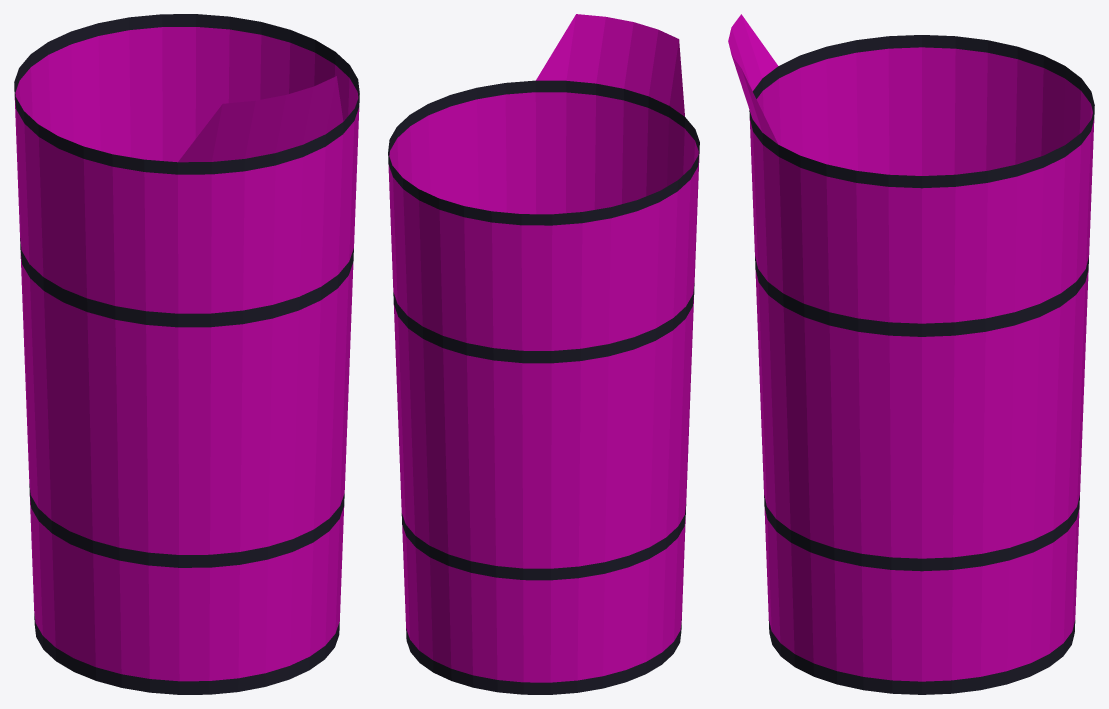
Rendered from legPlate.fbx.
3 renders of one model, left to right at view 1: azimuth 30°, elevation 25°; view 2: azimuth 150°, elevation 25°; view 3: azimuth 270°, elevation 25°, orthographic. The views are drawn at different scales.
Visible parts, largest first — view 1: Cylinder; view 2: Cylinder; view 3: Cylinder.
Part boxes in pixels (left/top/right/bottom): Cylinder: left=14, top=14, right=359, bottom=694; Cylinder: left=388, top=14, right=699, bottom=694; Cylinder: left=728, top=14, right=1094, bottom=694.
Size of the model in its own units: 176 by 343 by 193.
